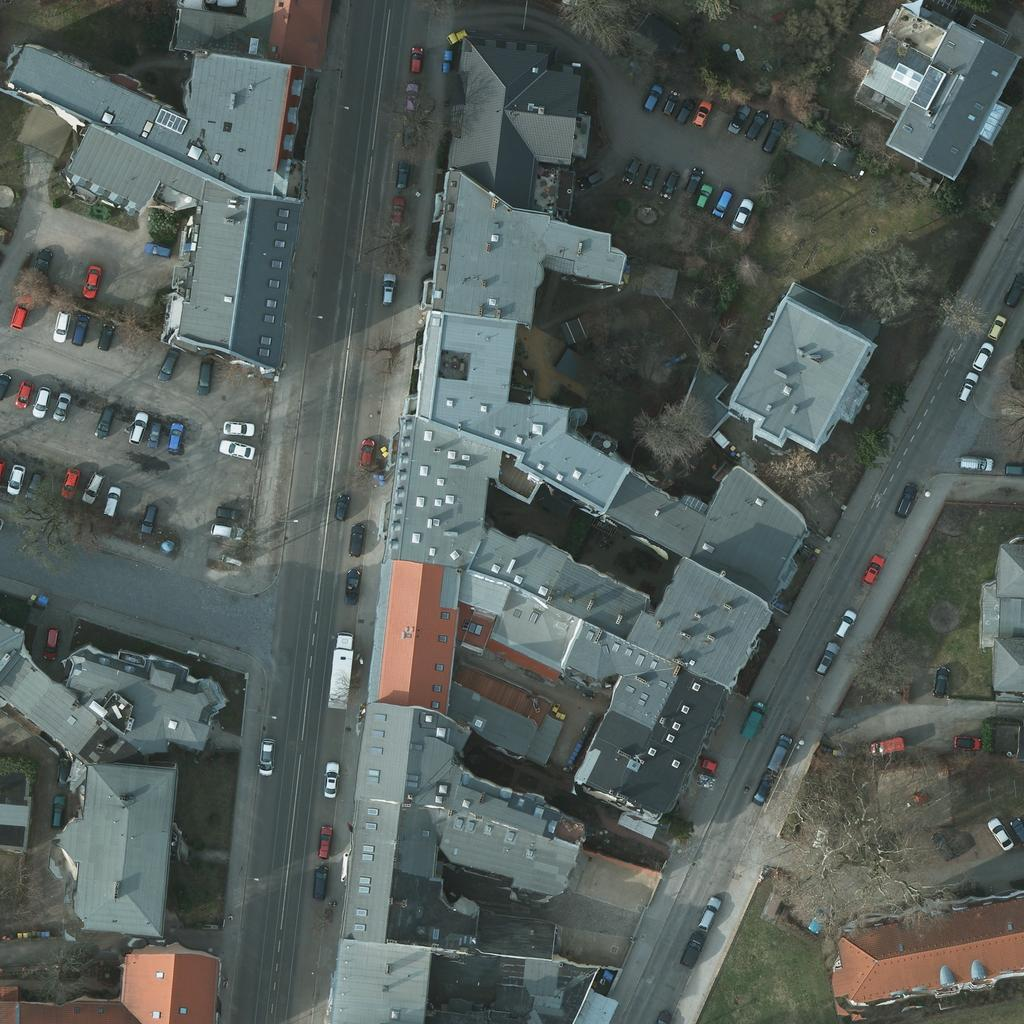car: (398, 45, 432, 79), (395, 80, 429, 114), (633, 80, 667, 114), (653, 87, 687, 121), (667, 94, 701, 128), (684, 97, 718, 131), (722, 100, 756, 134), (739, 108, 773, 142), (391, 118, 425, 152), (755, 119, 789, 153), (614, 152, 648, 186), (386, 155, 420, 189), (633, 158, 667, 192), (572, 161, 606, 195), (676, 163, 710, 197), (654, 165, 688, 199), (685, 180, 719, 214), (705, 184, 739, 218), (378, 197, 412, 231), (723, 198, 757, 232), (140, 233, 174, 267), (23, 250, 57, 284), (74, 262, 108, 296), (371, 272, 405, 306), (3, 295, 37, 329), (44, 307, 78, 341), (978, 308, 1012, 342), (64, 312, 98, 346), (88, 320, 122, 354), (965, 340, 999, 374), (150, 347, 184, 381), (187, 360, 221, 394), (949, 369, 983, 403), (7, 375, 41, 409), (23, 383, 57, 417), (45, 389, 79, 423), (87, 402, 121, 436), (122, 411, 156, 445), (219, 411, 253, 445), (138, 418, 172, 452), (157, 421, 191, 455), (220, 431, 254, 465), (349, 436, 383, 470), (957, 444, 991, 478), (53, 465, 87, 499), (17, 467, 51, 501), (17, 468, 51, 502), (76, 468, 110, 502), (888, 482, 922, 516), (94, 485, 128, 519), (323, 490, 357, 524), (213, 495, 247, 529), (132, 500, 166, 534), (210, 513, 244, 547), (339, 523, 373, 557), (855, 552, 889, 586), (335, 569, 369, 603), (826, 607, 860, 641), (34, 624, 68, 658), (808, 642, 842, 676), (924, 663, 958, 697), (735, 701, 769, 735), (951, 725, 985, 759), (865, 729, 899, 763), (762, 731, 796, 765), (248, 742, 282, 776), (690, 747, 724, 781), (46, 756, 80, 790), (313, 761, 347, 795), (747, 766, 781, 800), (38, 795, 72, 829), (983, 816, 1017, 850), (307, 824, 341, 858), (925, 827, 959, 861), (302, 863, 336, 897), (692, 896, 726, 930), (808, 897, 842, 931), (675, 931, 709, 965), (0, 461, 32, 495), (1000, 272, 1024, 306), (1000, 453, 1024, 487), (1005, 816, 1024, 850), (559, 0, 593, 17)
